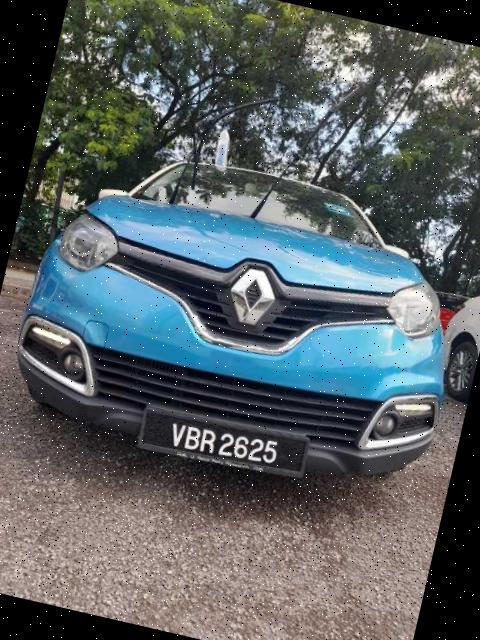License_Plate: (135, 400, 314, 487)
car: (1, 111, 480, 532)
